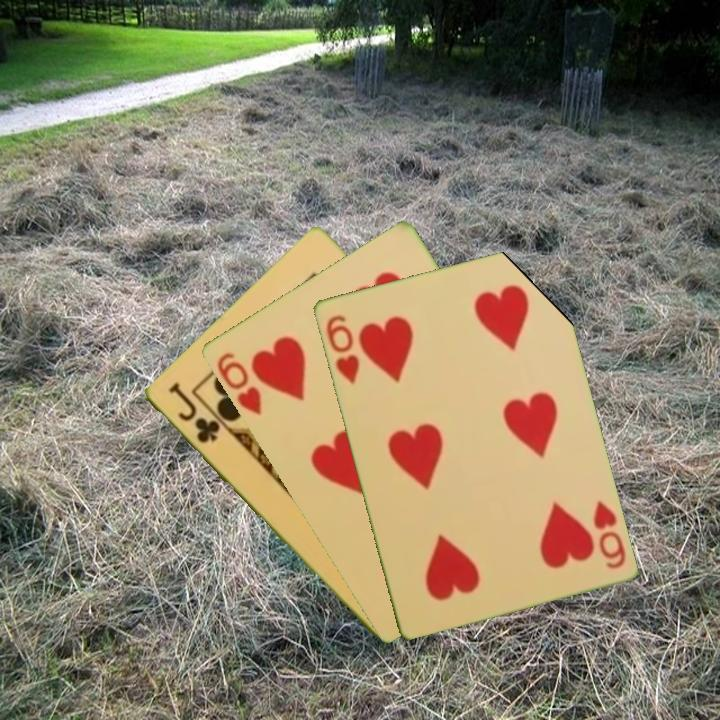6h: (213, 348, 264, 418), (322, 311, 362, 387), (589, 496, 628, 572)
Jc: (164, 379, 223, 446)
